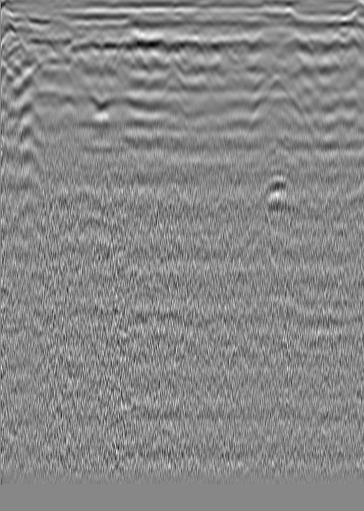가스: (258, 173, 299, 211)
상수: (7, 39, 27, 59)
오수: (313, 42, 333, 62)
우수: (167, 39, 187, 59)
